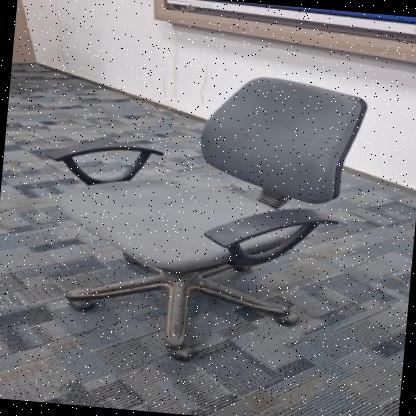chair: (30, 51, 377, 376)
